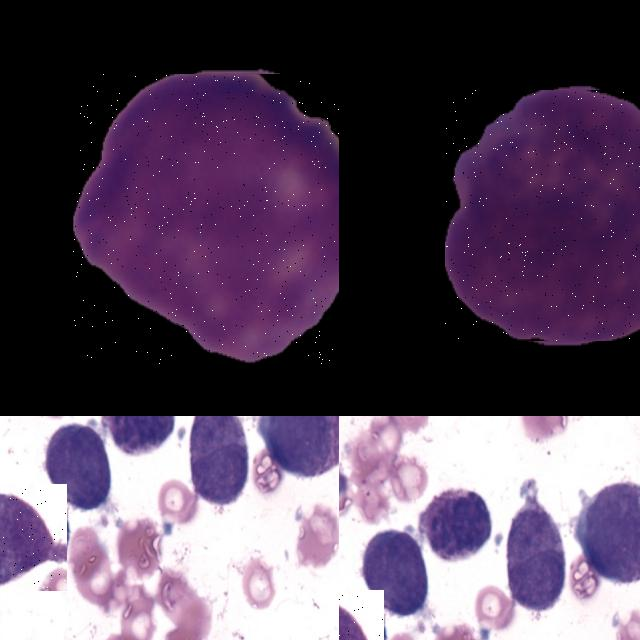ALL Negative Cells: (73, 74, 339, 364), (446, 90, 640, 341)
ALL Positive Cell: (508, 475, 563, 609), (0, 484, 66, 590), (575, 481, 640, 584), (38, 425, 114, 512), (354, 531, 430, 618), (258, 416, 339, 478), (415, 492, 490, 558), (191, 416, 246, 503), (97, 416, 173, 452)
